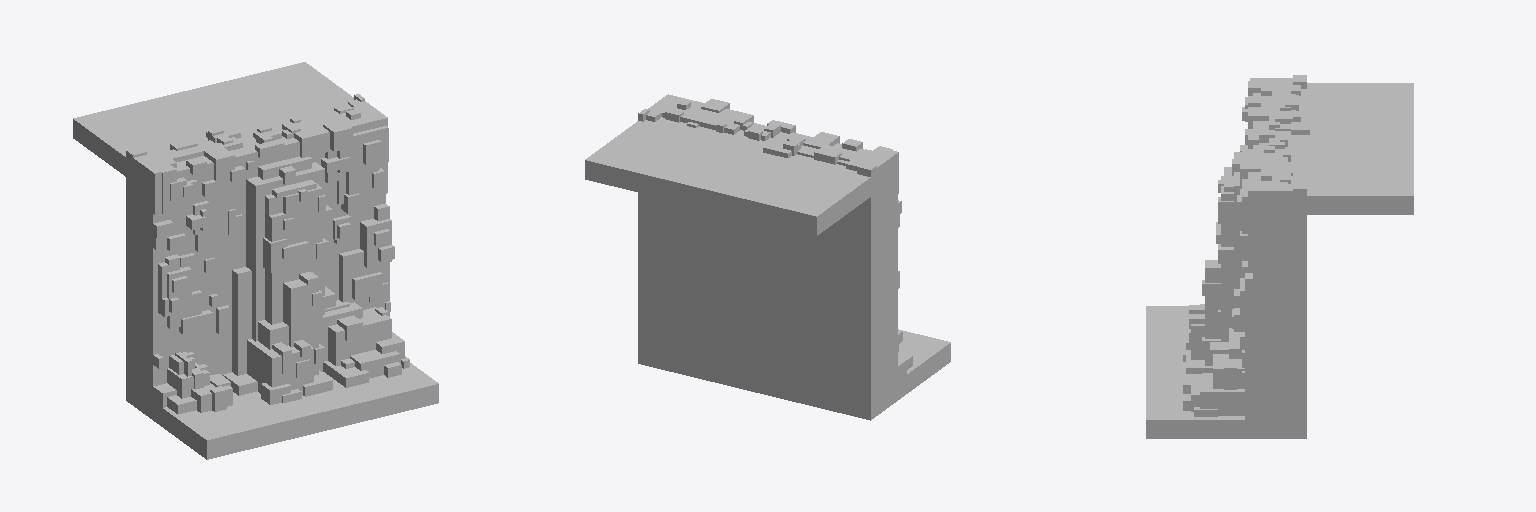
Rendered from Cliffs-1-Cliff 2.obj.
3 renders of one model, left to right at view 1: azimuth 30°, elevation 25°; view 2: azimuth 150°, elevation 25°; view 3: azimuth 270°, elevation 25°, orthographic.
Visible parts, largest first — view 1: Cliff 2; view 2: Cliff 2; view 3: Cliff 2.
Part boxes in pixels (x1,y1,x2,y2): Cliff 2: (73,62,438,459); Cliff 2: (585,94,950,420); Cliff 2: (1146,75,1413,438).
Bounding box in the file's own units: 10 × 10.4 × 10.